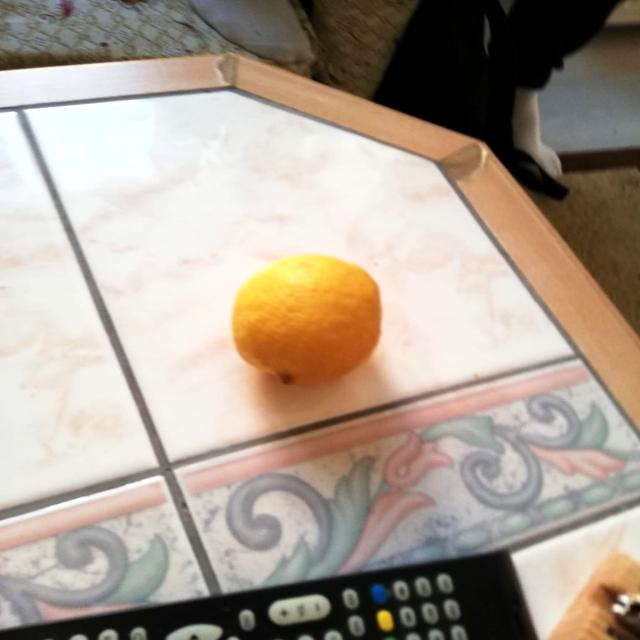lemon: (226, 250, 386, 392)
